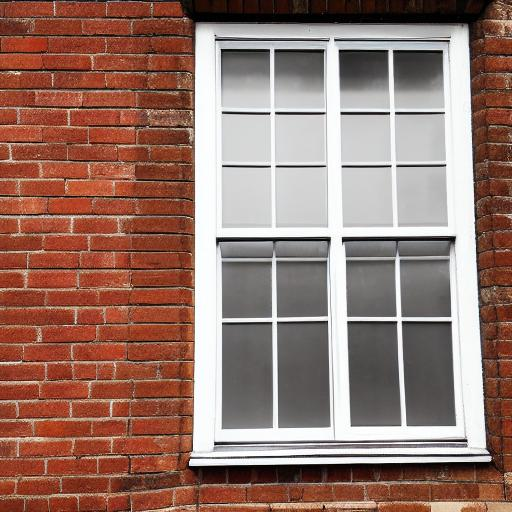Window: (176, 0, 499, 471)
